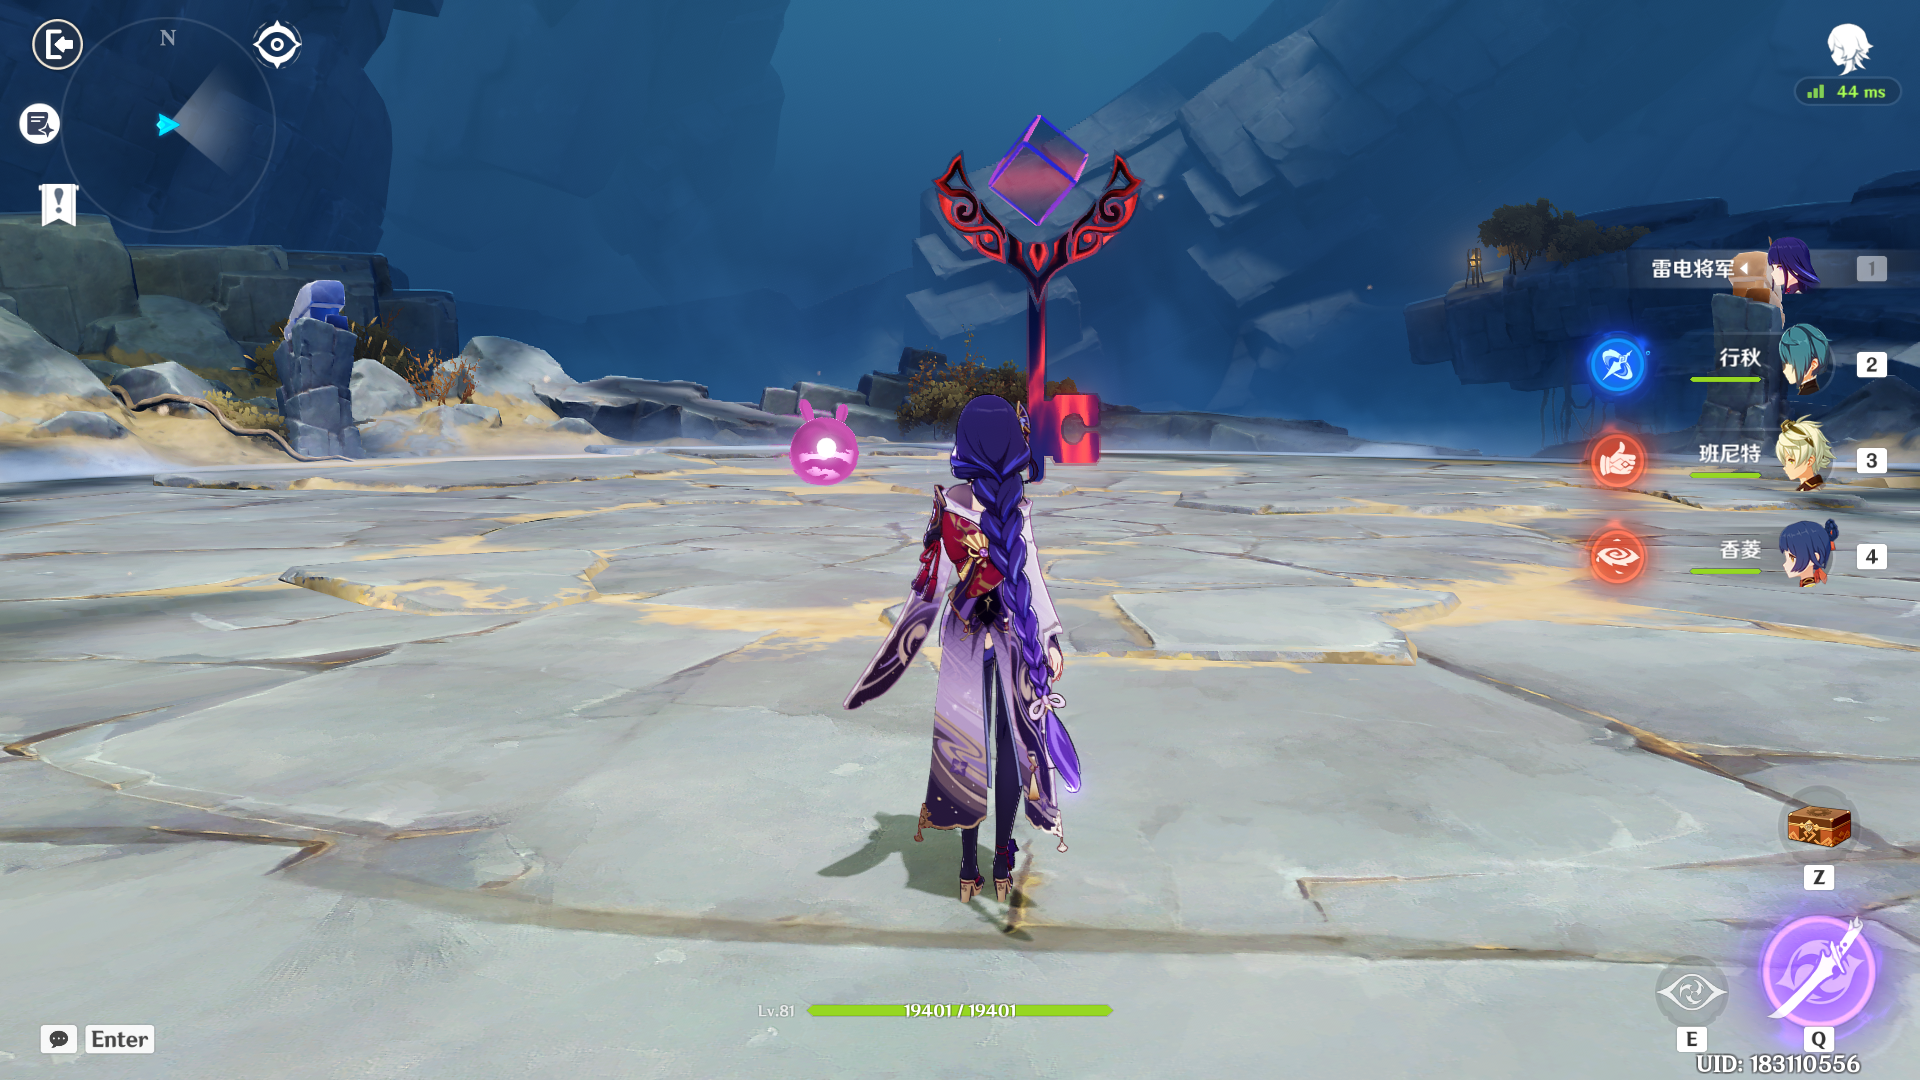character: (816, 369, 1147, 967)
